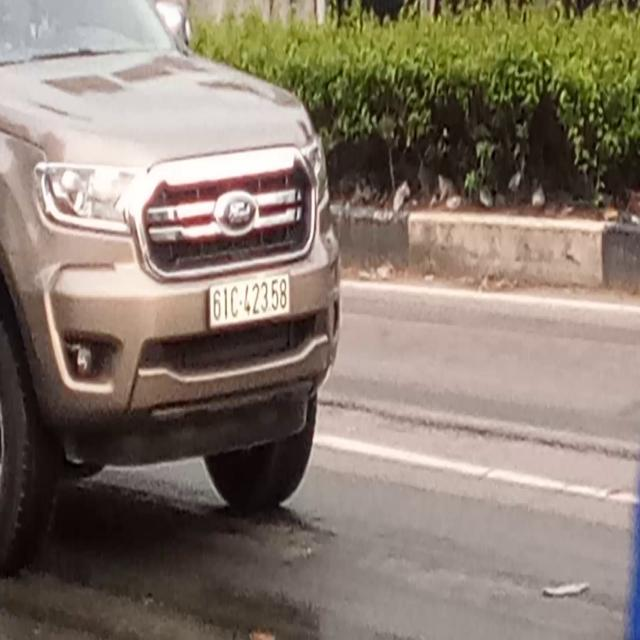bien_trang: (201, 264, 297, 328)
